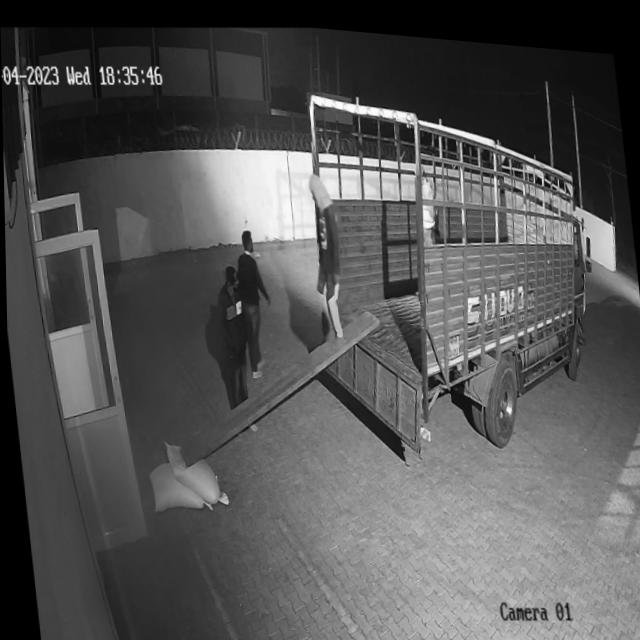sack: (161, 431, 228, 506), (143, 453, 211, 512)
